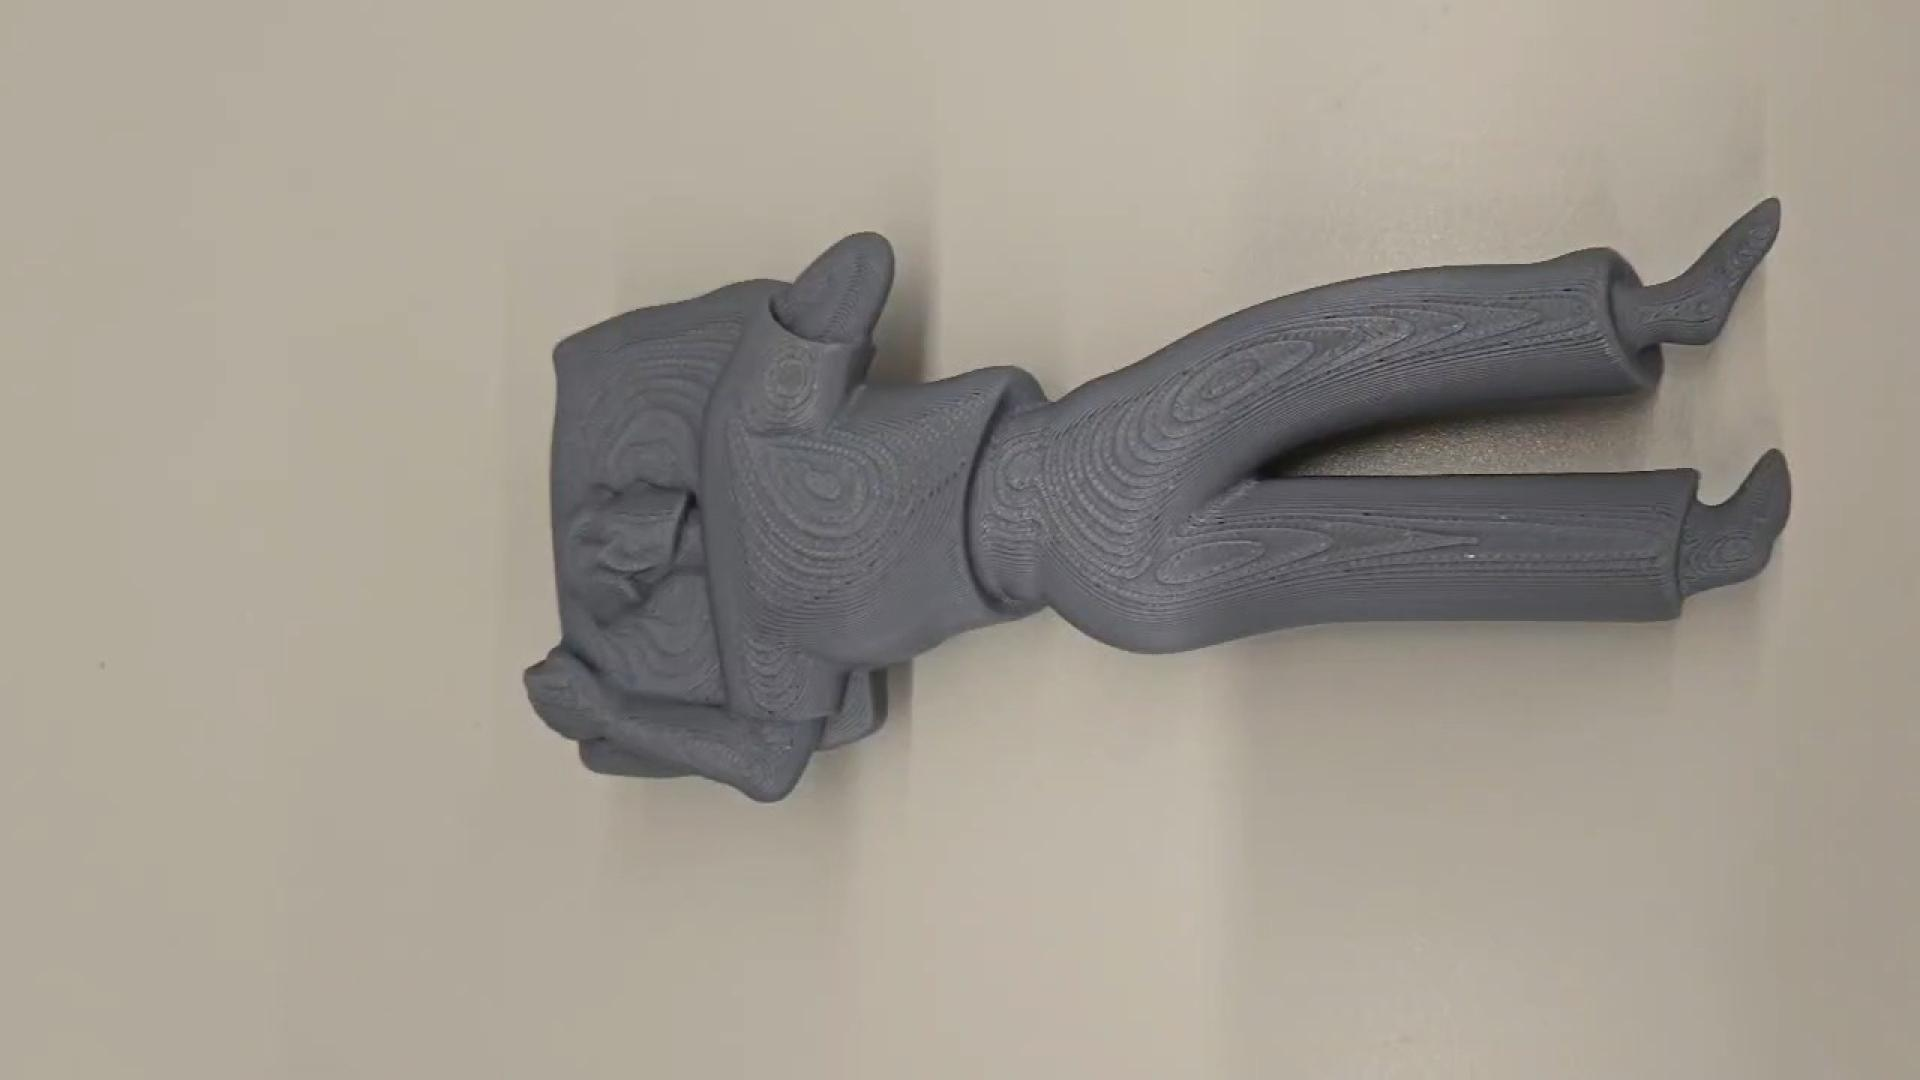Bad-style: (521, 185, 1803, 804)
